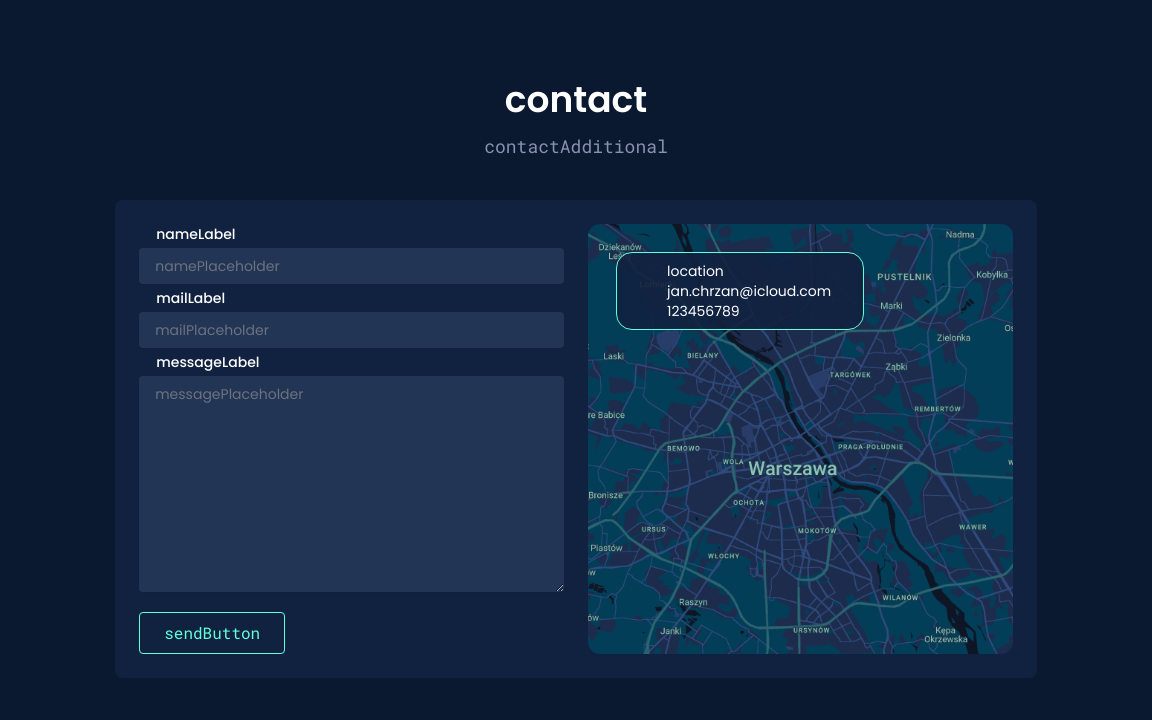
Contact › Displays error message when inputs are empty
The image size is (1152, 720).
Click the button "sendButton" at (212, 633), box left=139, top=612, right=285, bottom=654
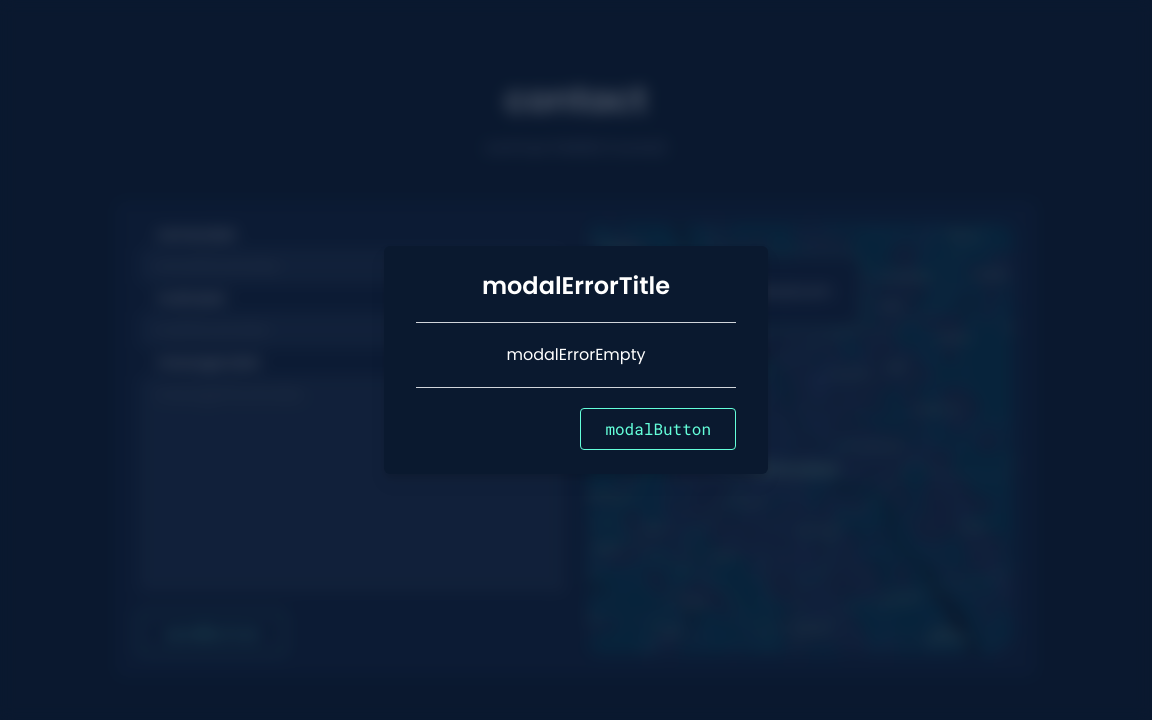
Check: the heading "modalErrorTitle" is shown, box left=482, top=269, right=670, bottom=302
Check: the text "modalErrorEmpty" is shown, box left=506, top=343, right=646, bottom=366
